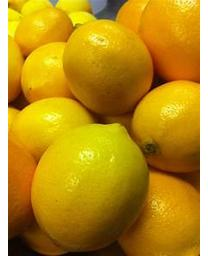lemon: (31, 124, 150, 250), (62, 20, 153, 118), (120, 170, 202, 255), (133, 80, 207, 173), (15, 9, 76, 57)
